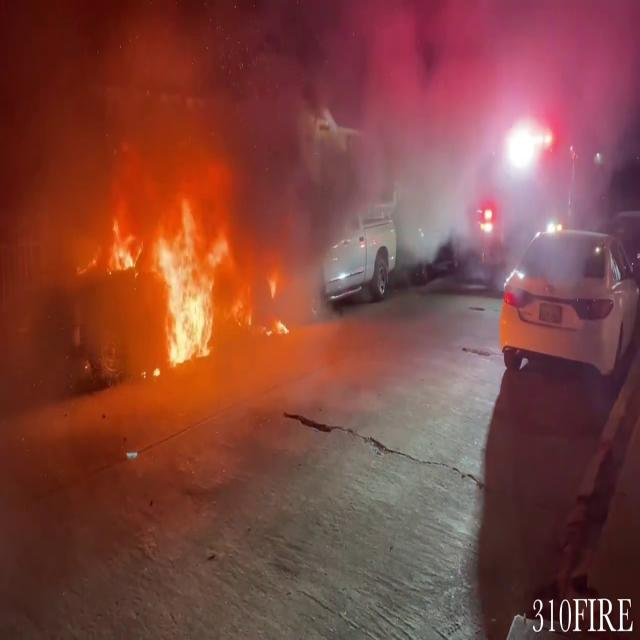Fire: (115, 186, 235, 372)
Smoke: (4, 0, 368, 251), (319, 0, 640, 256)
